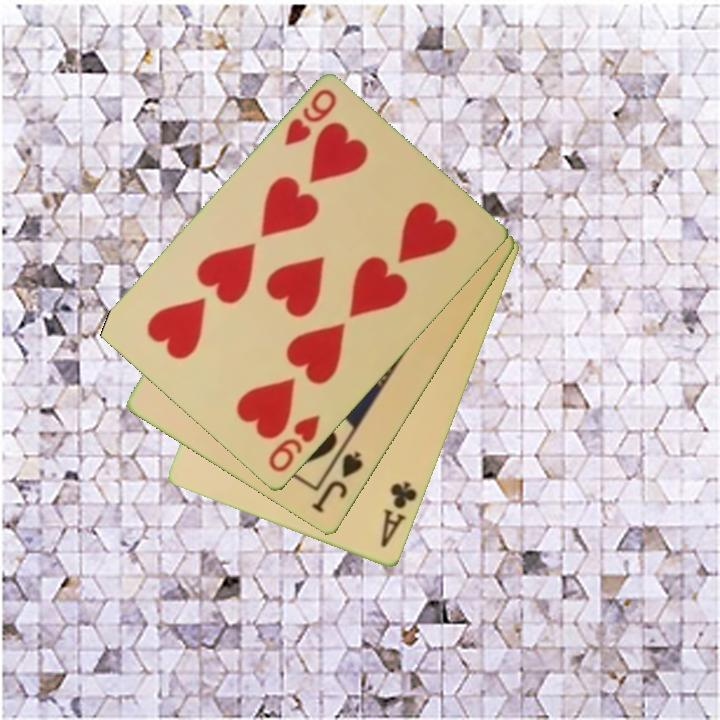9h: (280, 85, 340, 150), (265, 412, 324, 476)
Ac: (377, 478, 421, 552)
Js: (308, 448, 366, 517)
